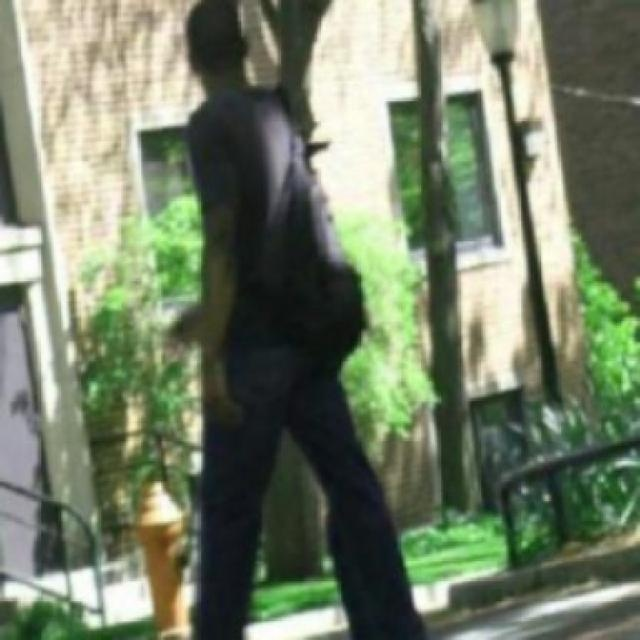obstacle: (169, 0, 433, 638)
